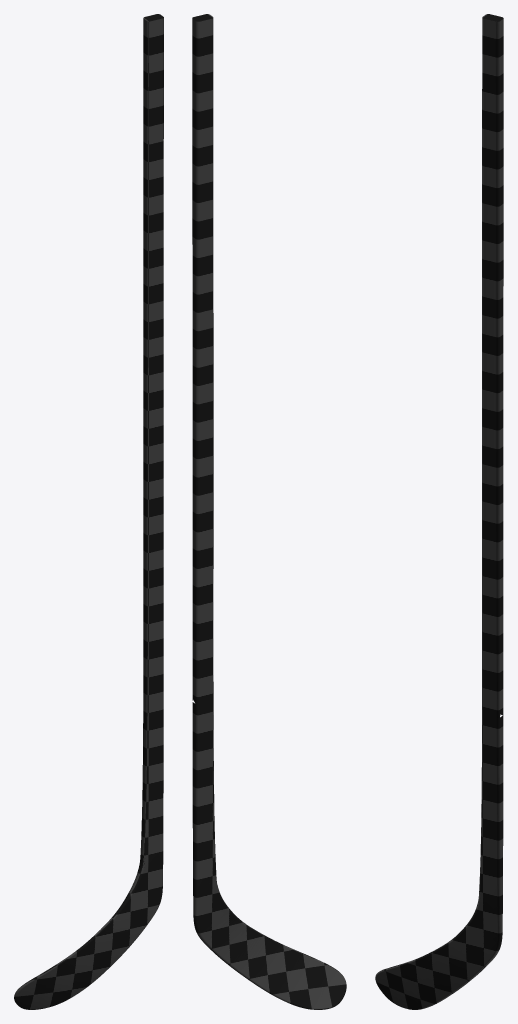
The picture shows the model from 3 angles, left to right: view 1: azimuth 30°, elevation 25°; view 2: azimuth 210°, elevation 25°; view 3: azimuth 330°, elevation 25°; orthographic projection. The views are drawn at different scales.
Parts seen in each view (by area): view 1: geometry_0; view 2: geometry_0; view 3: geometry_0.
Part boxes in pixels (left/top/right/bottom): geometry_0: left=14, top=14, right=163, bottom=1009; geometry_0: left=192, top=14, right=346, bottom=1009; geometry_0: left=375, top=14, right=503, bottom=1009.
Size of the model in its own units: 237 by 1650 by 60.38.
Materials: 1 (1 with a texture image).
